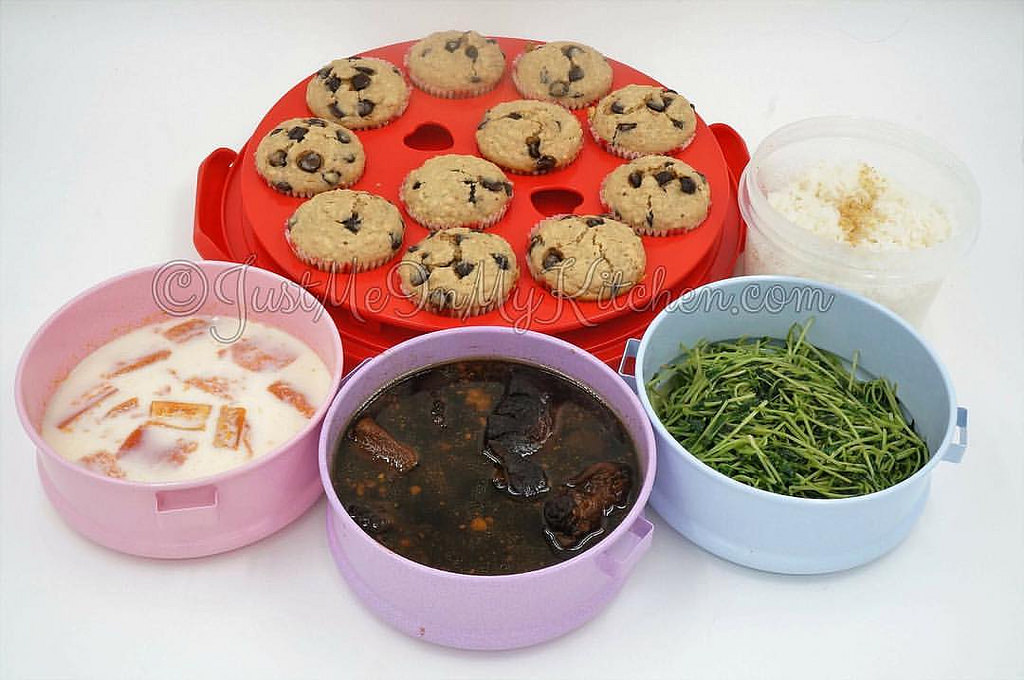chopped lettuce: (719, 345, 904, 483)
plain rice: (804, 170, 922, 260)
